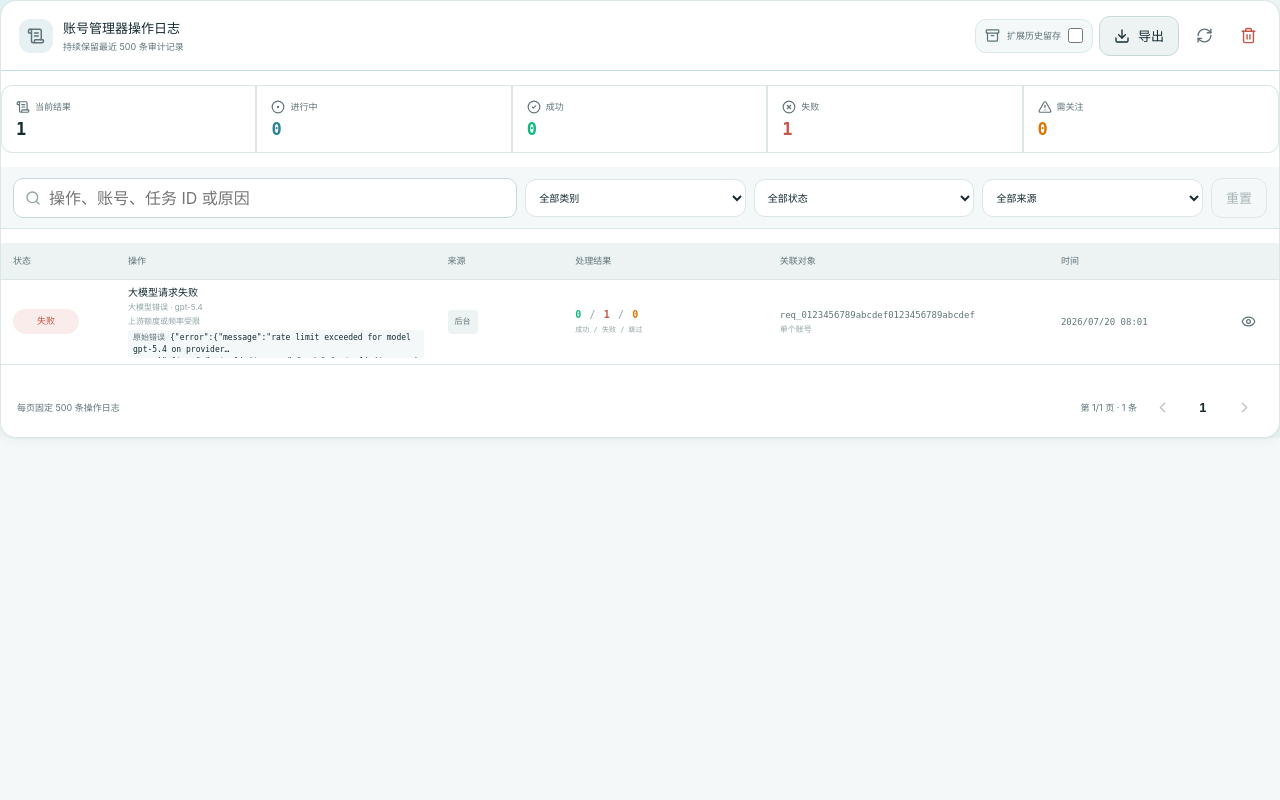
Test: OperationLogWorkspace › shows a model error with the original upstream message and its status evidence
Expected: the text "大模型请求失败" is shown, [128,286,198,298]
Expected: the text "大模型错误 · gpt-5.4" is shown, [128,302,203,312]
Click the button named "查看操作详情" at (1248, 322), box [1229,302,1267,340]
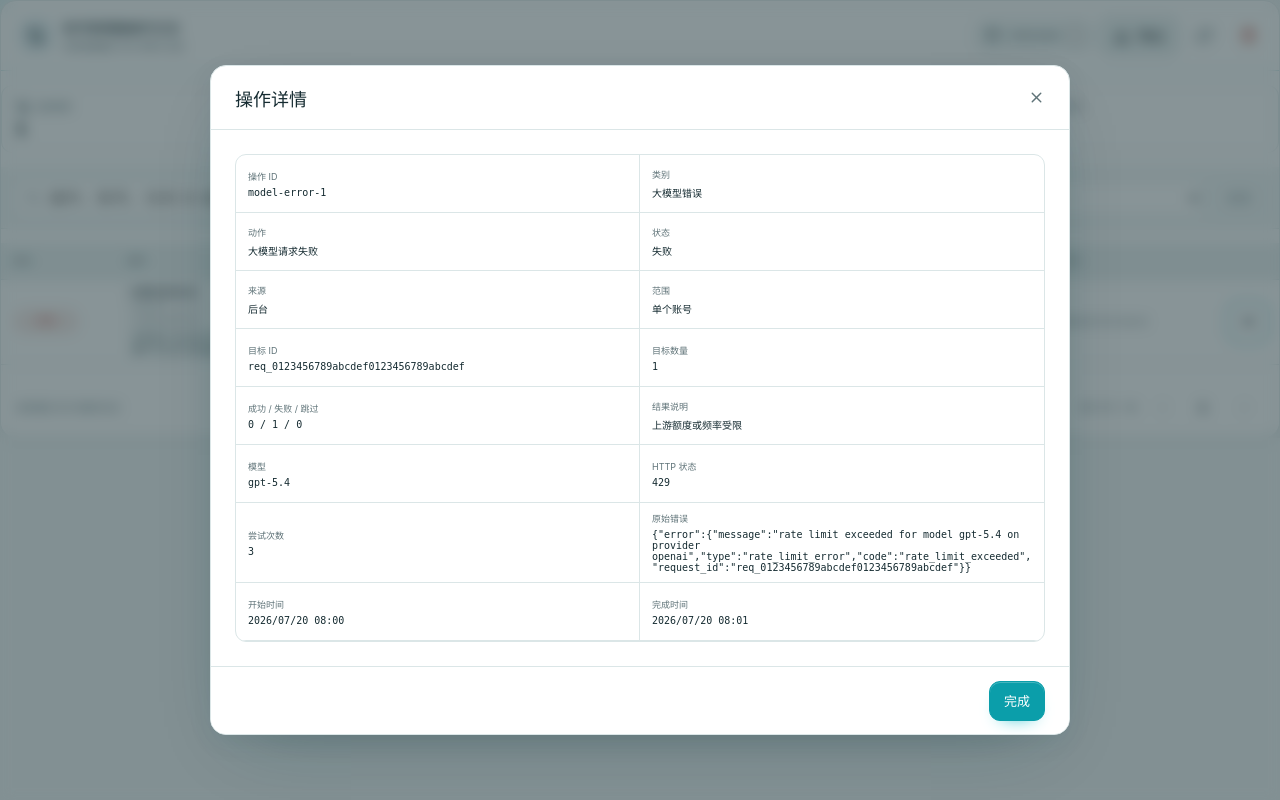
Result: the text "原始错误" is shown at [652,513,688,524]
Result: the text "{\"error\":{\"message\":\"rate limit exceeded for model gpt-5.4 on provider openai\",\"type\":\"rate_limit_error\",\"code\":\"rate_li" is shown at [652,529,1031,573]
Result: the text "gpt-5.4" is shown at [248,476,290,488]
